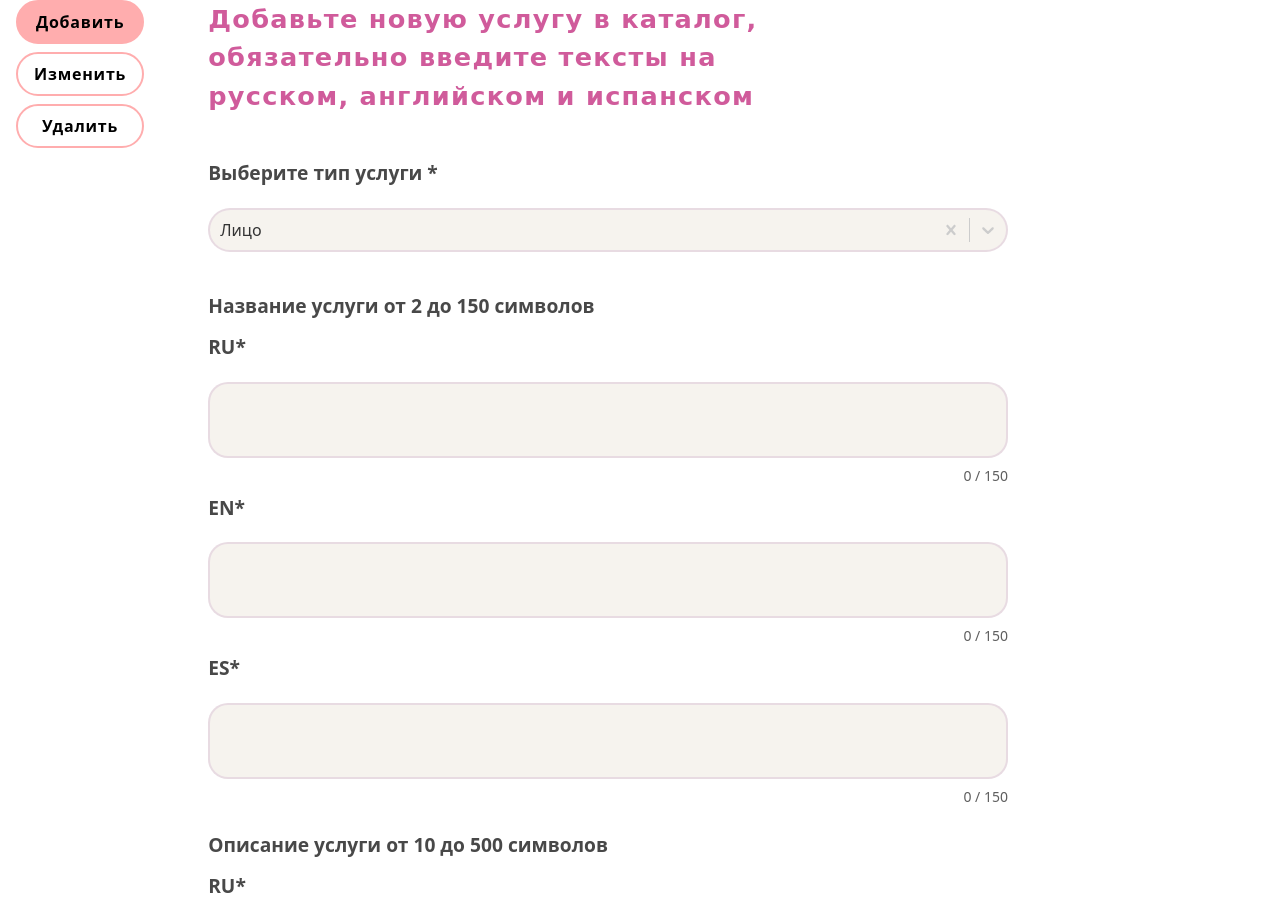
Test case: DashboardPanel — delete-service flow › shows a human error message and keeps the dialog closed state clean when the delete fails
Click the button "Удалить".
click(80, 126)  # box x1=16 y1=104 x2=144 y2=148
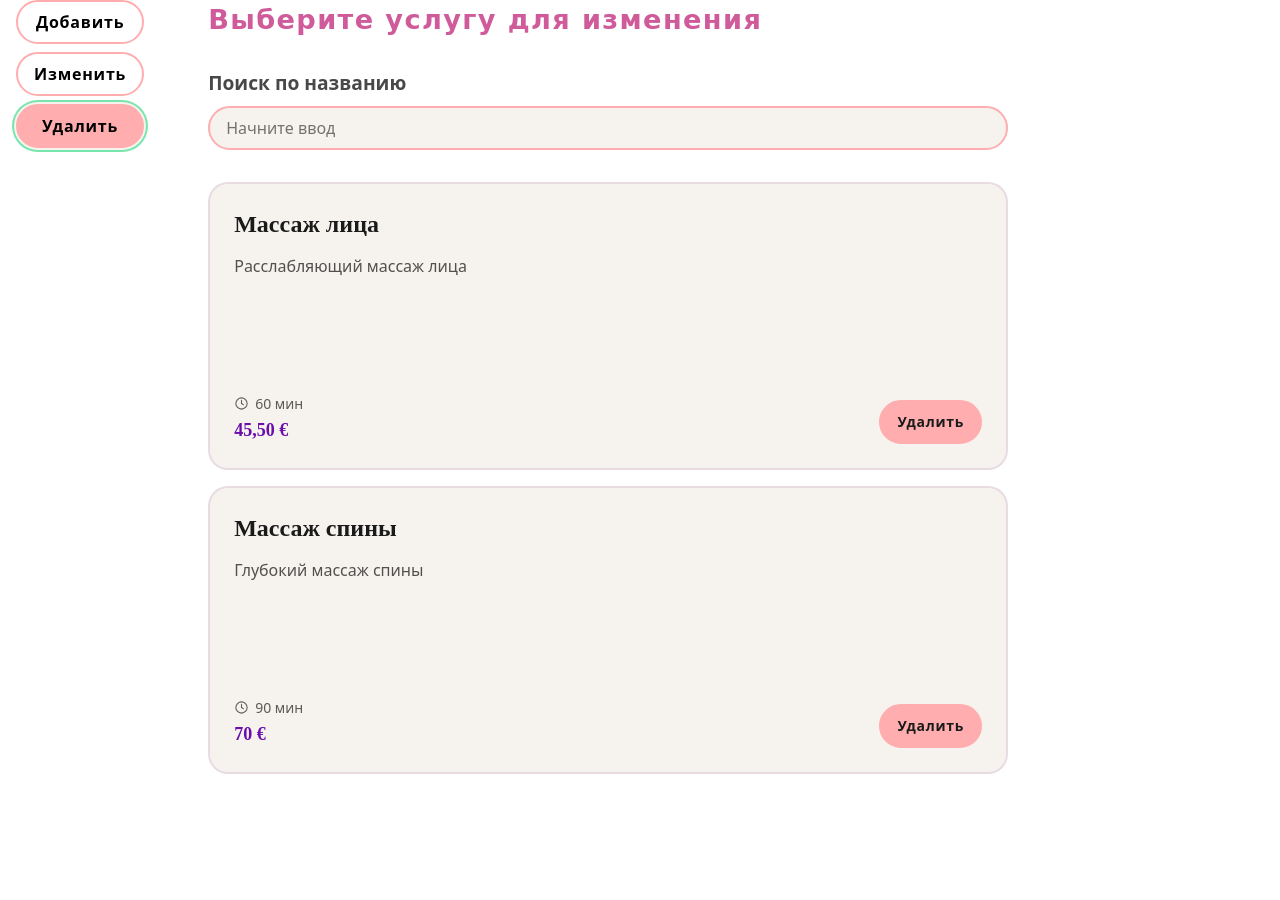
Click the button with aria-label "Удалить: Массаж лица".
click(931, 422)  # box x1=880 y1=400 x2=982 y2=444
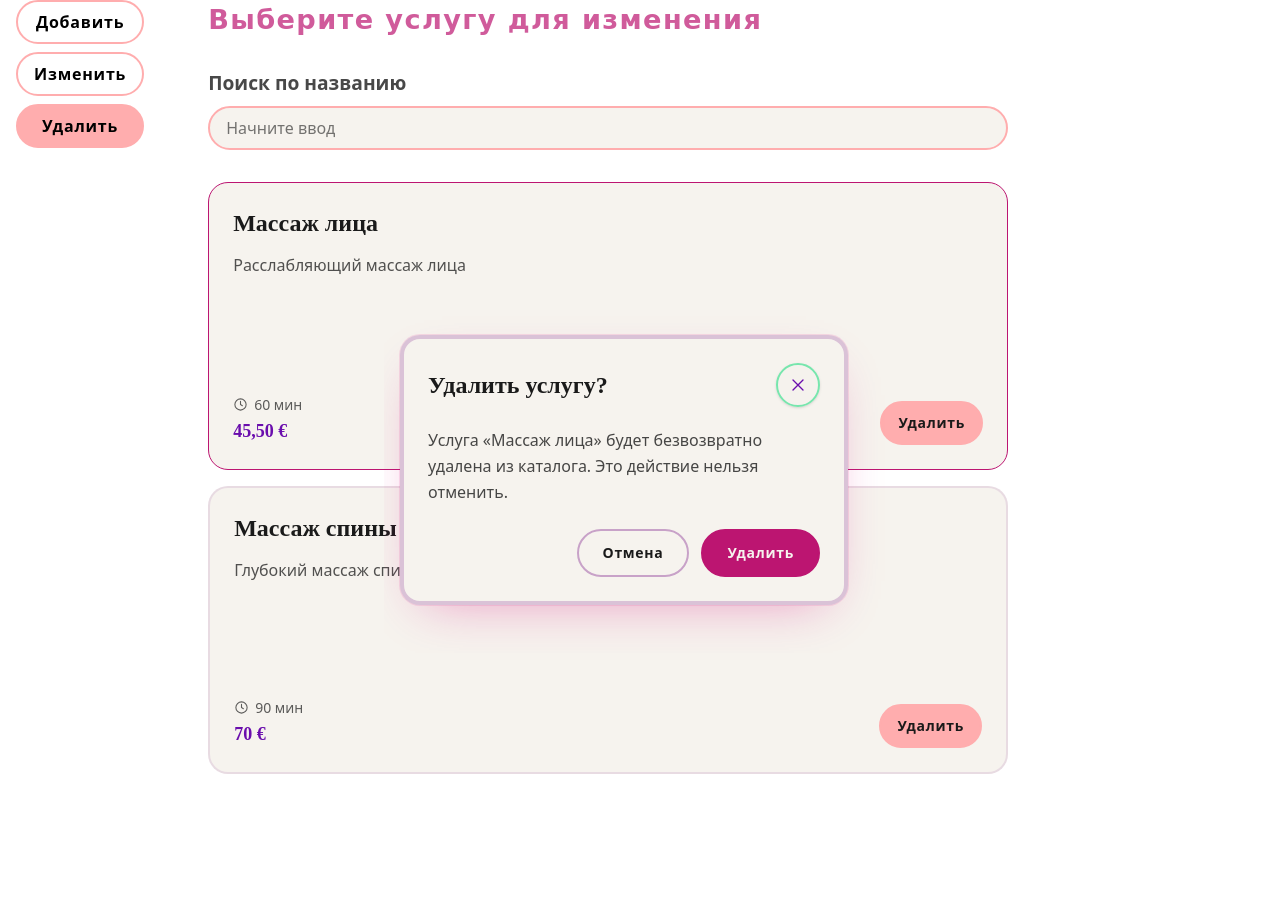
Click the button with test id "delete-confirm-confirm".
click(761, 553)  # box x1=702 y1=529 x2=820 y2=577
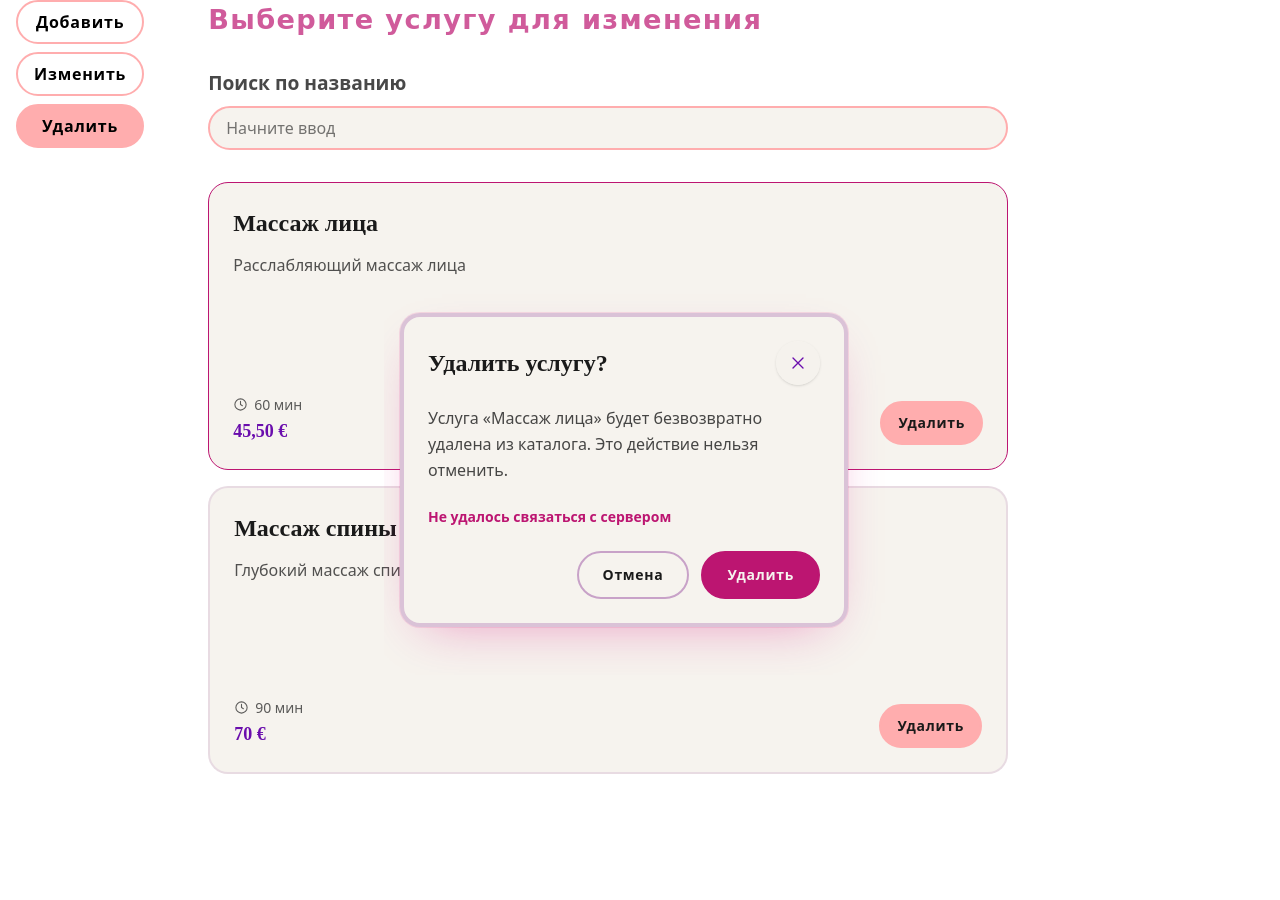
Check: the message with test id "service-delete-status" reads "Не удалось связаться с сервером", box x1=428 y1=507 x2=671 y2=526
